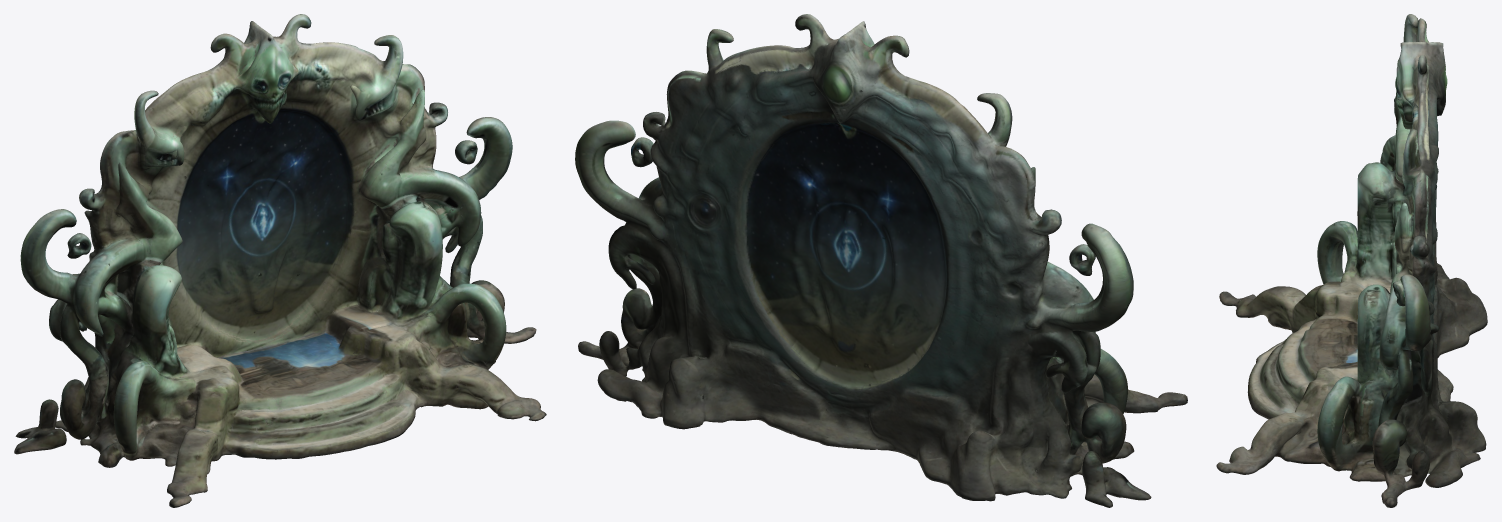
Rendered from A_Portal_to_another_W_0613152137_texture.fbx.
3 renders of one model, left to right at view 1: azimuth 30°, elevation 25°; view 2: azimuth 150°, elevation 25°; view 3: azimuth 270°, elevation 25°, orthographic. The views are drawn at different scales.
Parts seen in each view (by area): view 1: Mesh_0; view 2: Mesh_0; view 3: Mesh_0.
Boxes of the visible parts, bbox=[...] form: Mesh_0: bbox=[14, 14, 546, 507]; Mesh_0: bbox=[575, 14, 1187, 507]; Mesh_0: bbox=[1216, 14, 1487, 507].
Bounding box in the file's own units: 201 × 136 × 95.19.
Materials: 1 (1 with a texture image).
